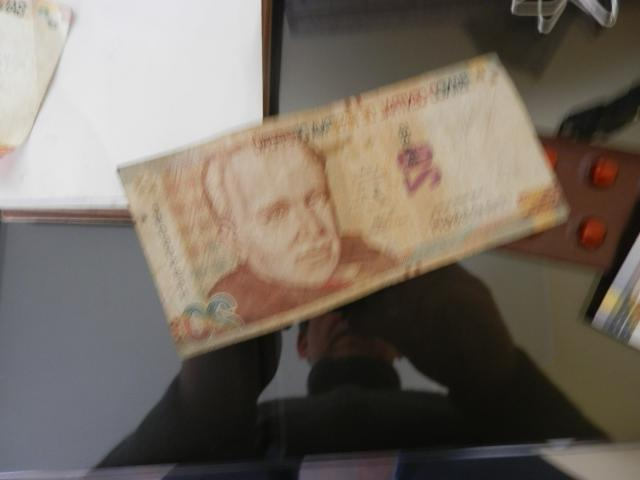B20: (115, 51, 569, 356)
